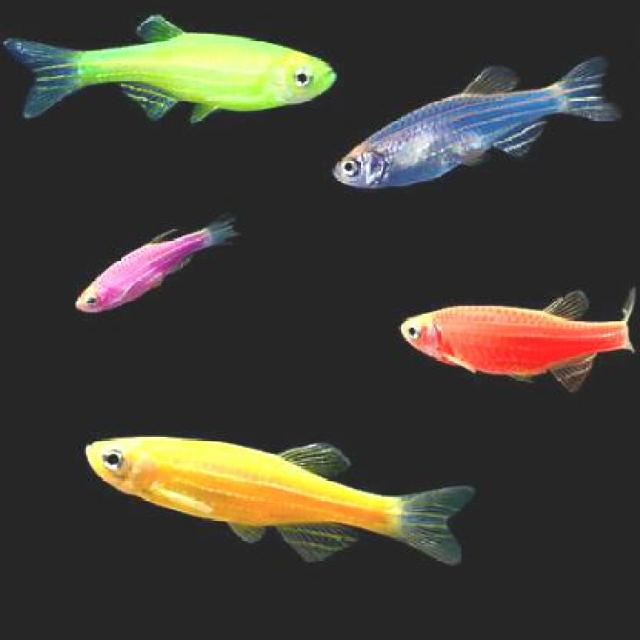ZebraFish: (81, 432, 470, 574), (330, 64, 618, 185), (11, 11, 340, 115), (385, 285, 637, 389), (79, 213, 238, 307)
